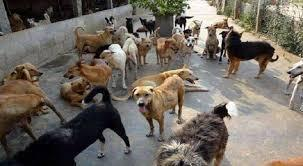normal_dogs: (6, 88, 130, 166), (131, 74, 190, 144), (225, 26, 281, 86), (135, 67, 207, 111), (74, 23, 118, 50), (62, 74, 96, 106), (6, 62, 49, 85), (177, 30, 201, 64), (204, 20, 220, 62), (136, 30, 152, 62), (119, 20, 129, 41)
